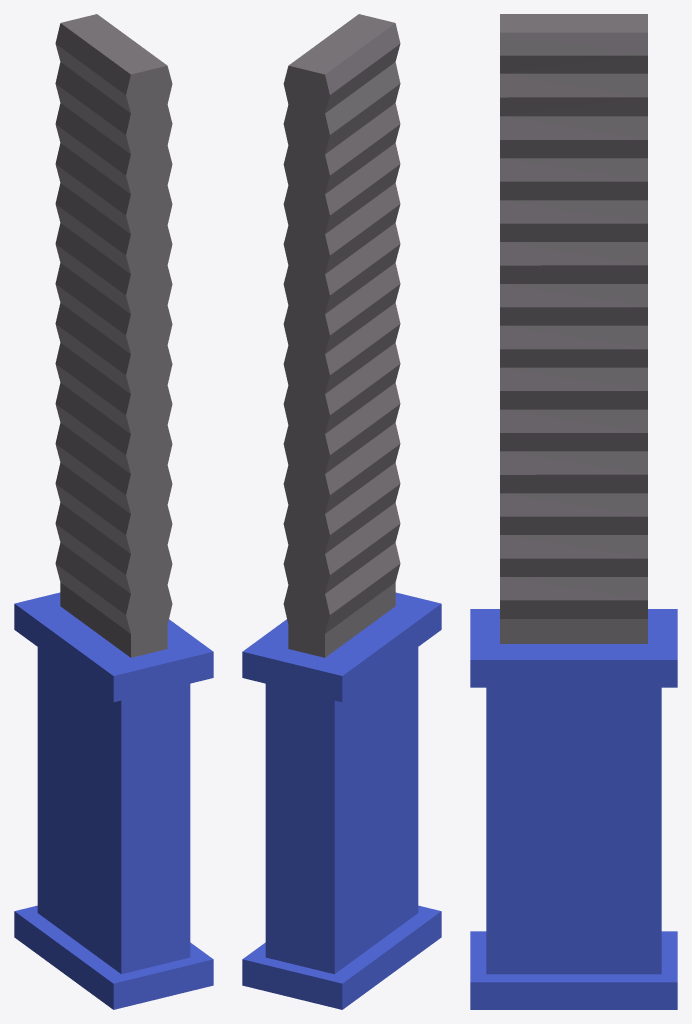
The picture shows the model from 3 angles, left to right: view 1: azimuth 30°, elevation 25°; view 2: azimuth 150°, elevation 25°; view 3: azimuth 270°, elevation 25°; orthographic projection. The views are drawn at different scales.
Visible parts, largest first — view 1: Würfel.002; view 2: Würfel.002; view 3: Würfel.002.
Boxes of the visible parts, x1,y1,x2,y2 form: Würfel.002: [14, 14, 213, 1009]; Würfel.002: [242, 14, 441, 1009]; Würfel.002: [470, 14, 677, 1009].
Size of the model in its own units: 0.8182 by 1.4 by 7.17.
